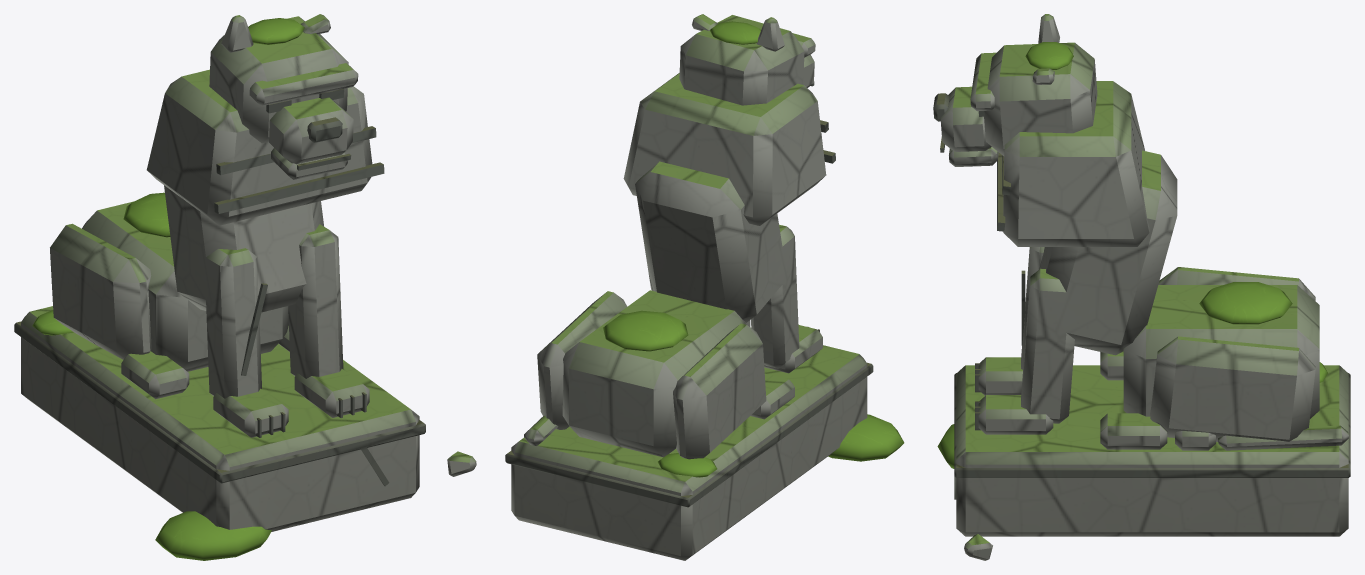
The model's file is stone_lion.glb.
The picture shows the model from 3 angles, left to right: view 1: azimuth 30°, elevation 25°; view 2: azimuth 150°, elevation 25°; view 3: azimuth 270°, elevation 25°; orthographic projection. The views are drawn at different scales.
Parts seen in each view (by area): view 1: stone_lion; view 2: stone_lion; view 3: stone_lion.
Boxes of the visible parts, x1,y1,x2,y2 form: stone_lion: (14, 14, 476, 560); stone_lion: (505, 14, 904, 560); stone_lion: (933, 14, 1350, 560).
Size of the model in its own units: 1.81 by 2.8 by 2.23.
Materials: 3 (3 with a texture image).
